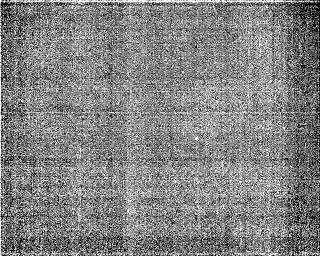AIRPLANE: (193, 134, 200, 142)
